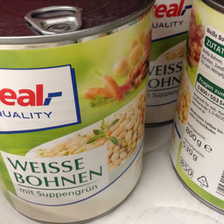beans: (1, 1, 156, 221), (171, 1, 223, 214)
